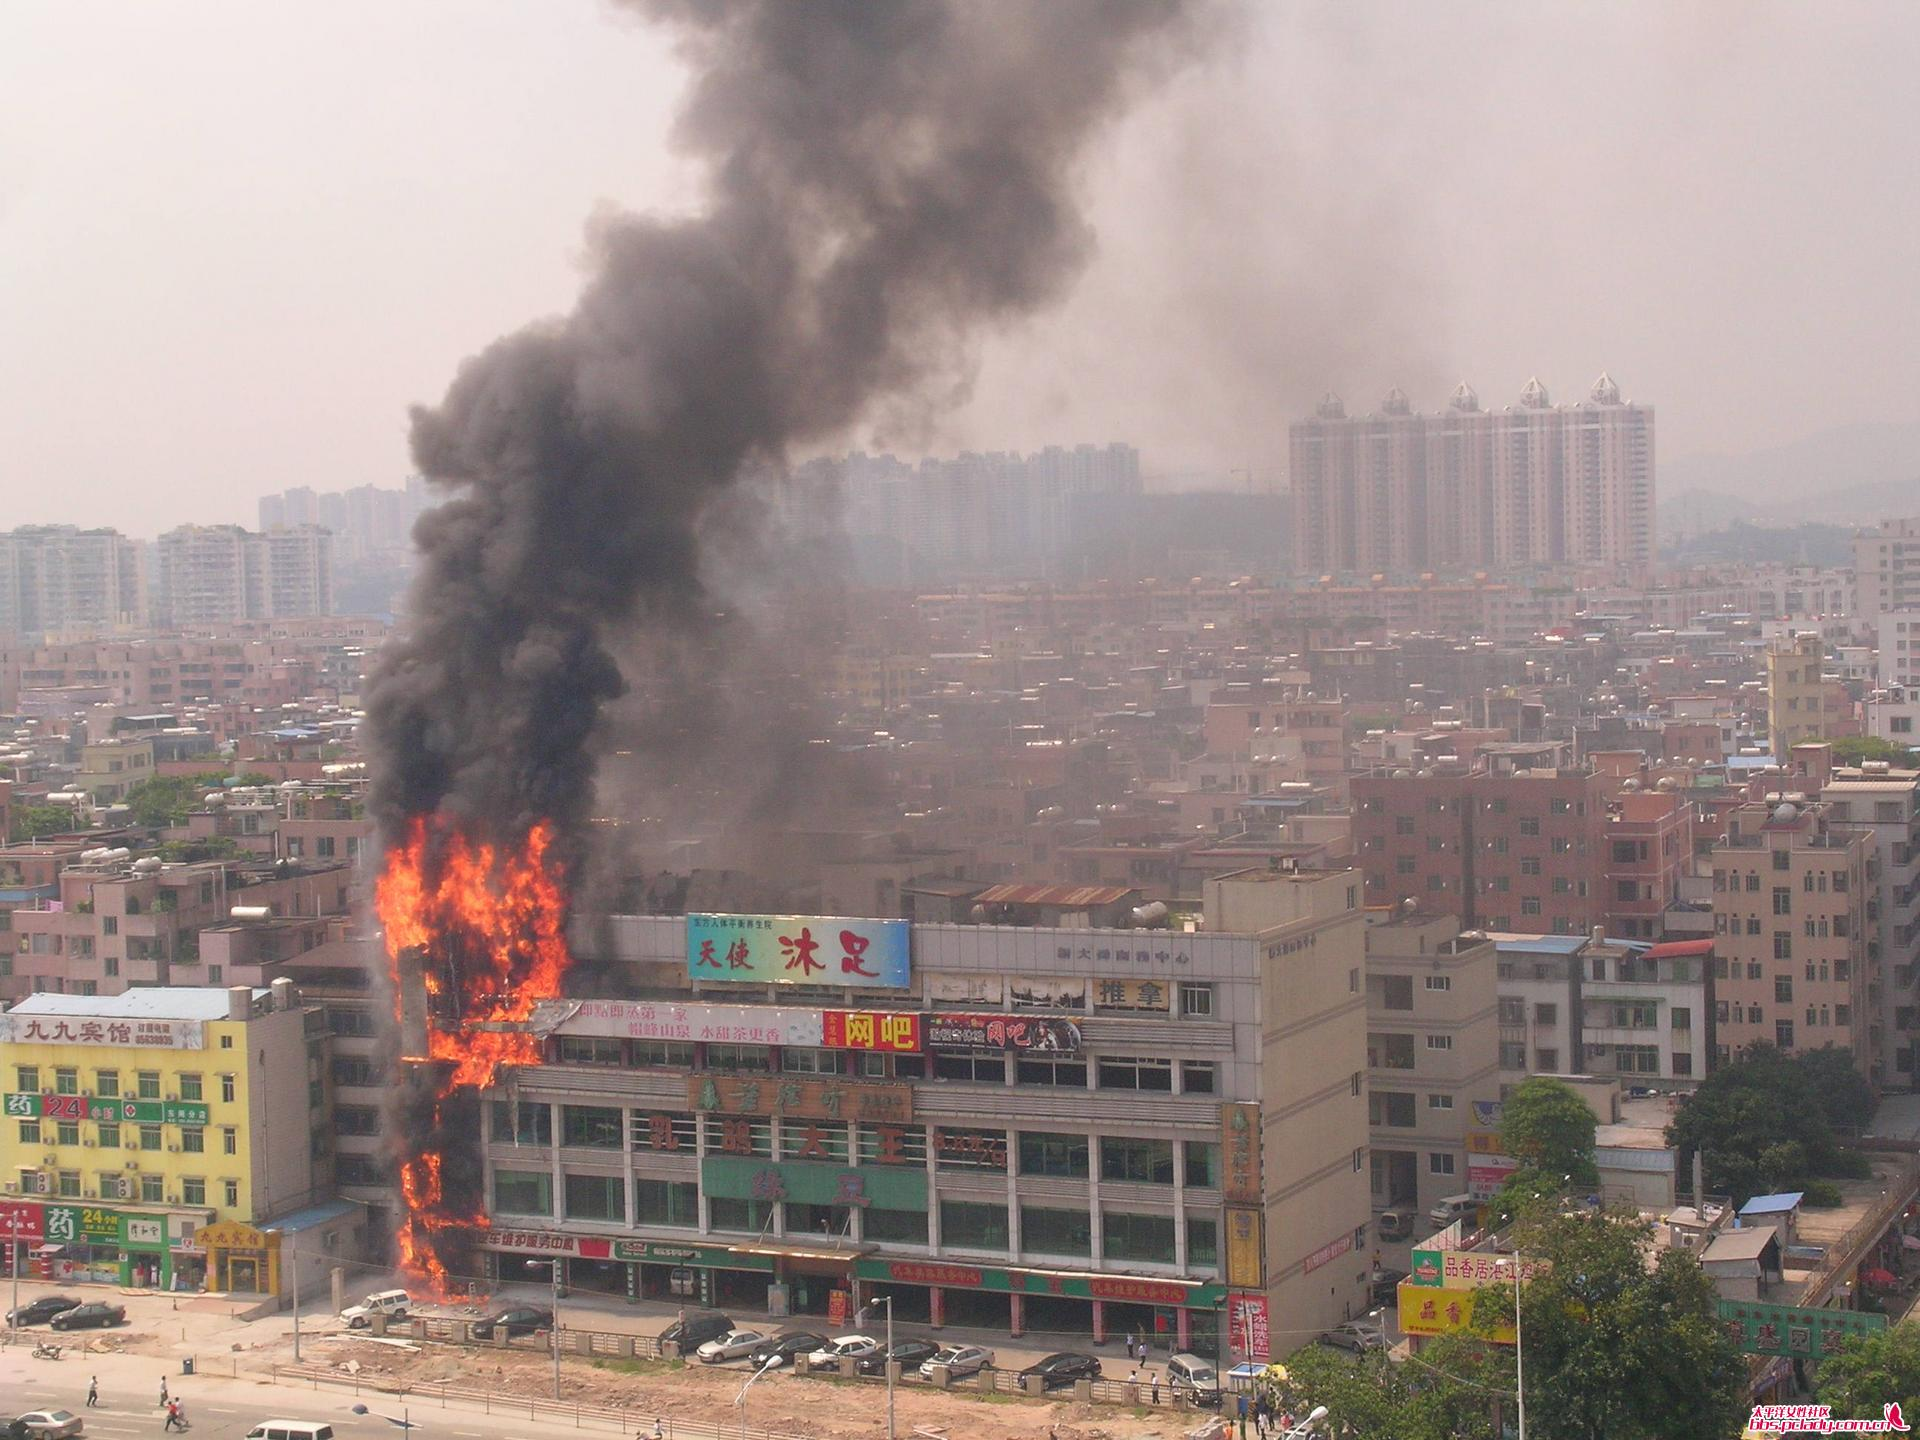fire: (361, 768, 590, 1293)
